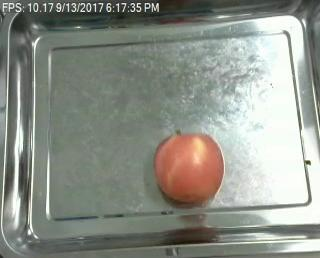apple: (152, 130, 225, 207)
